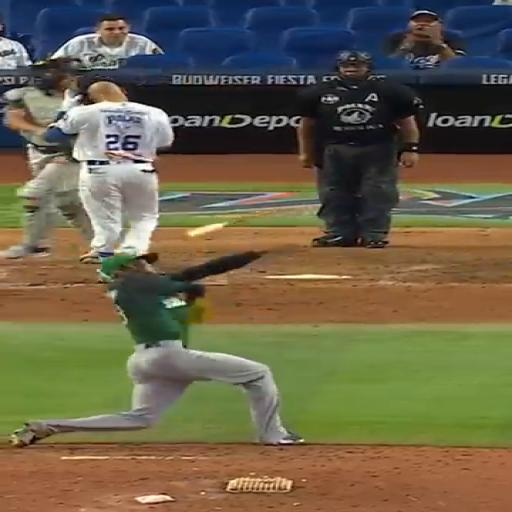bat: (184, 207, 303, 237)
